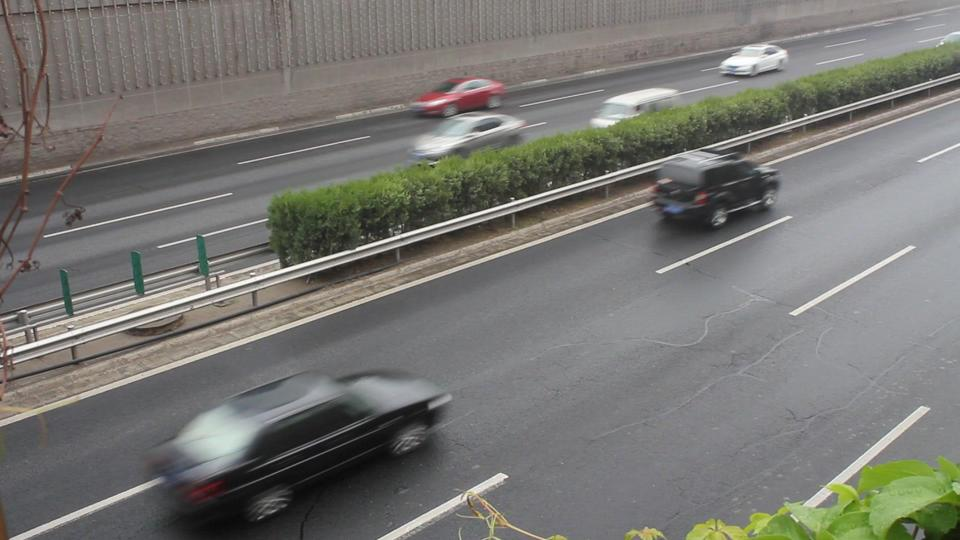Car: (164, 373, 445, 500), (649, 150, 777, 226), (405, 112, 523, 166), (415, 77, 503, 116), (718, 42, 785, 80)
Minivan: (588, 90, 685, 148)
